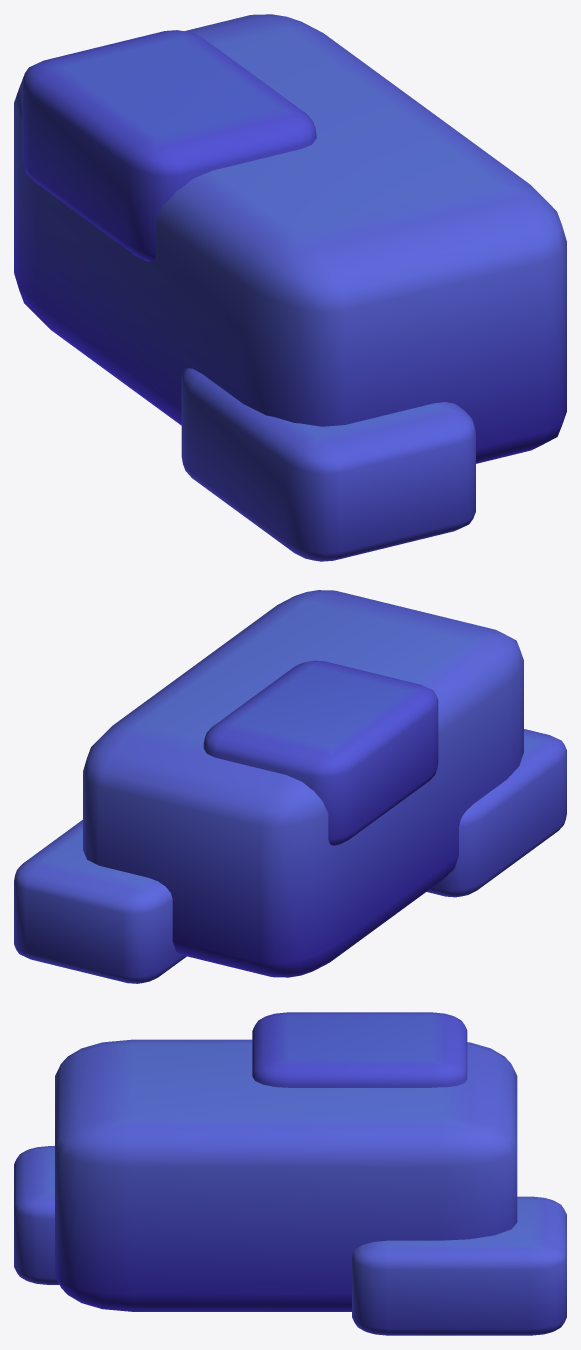
The model's file is тучка.fbx.
3 views of the same model, one above another, from view 1: azimuth 30°, elevation 25°; view 2: azimuth 150°, elevation 25°; view 3: azimuth 270°, elevation 25° (orthographic). The views are drawn at different scales.
Visible parts, largest first — view 1: Cube; view 2: Cube; view 3: Cube.
Part boxes in pixels (bbox=[...]): Cube: bbox=[14, 14, 566, 561]; Cube: bbox=[14, 590, 566, 983]; Cube: bbox=[14, 1012, 566, 1335].
Size of the model in its own units: 234 by 189 by 426.
